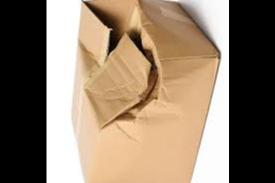damage_box: (68, 0, 220, 183)
